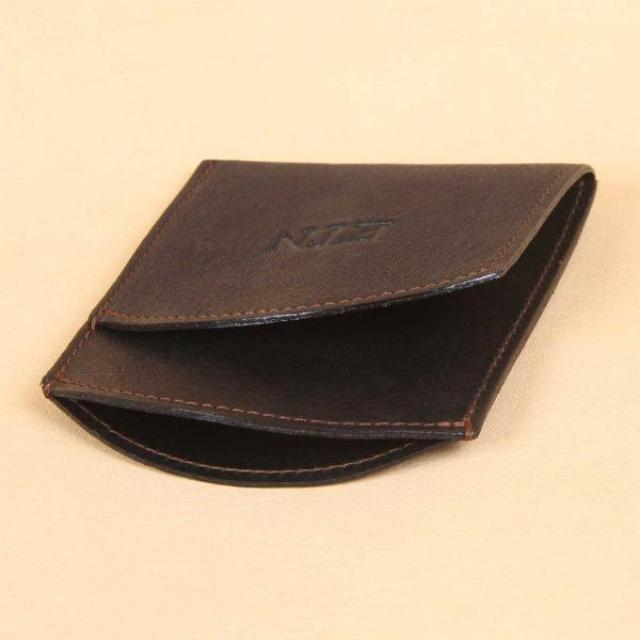wallet: (37, 152, 597, 496)
